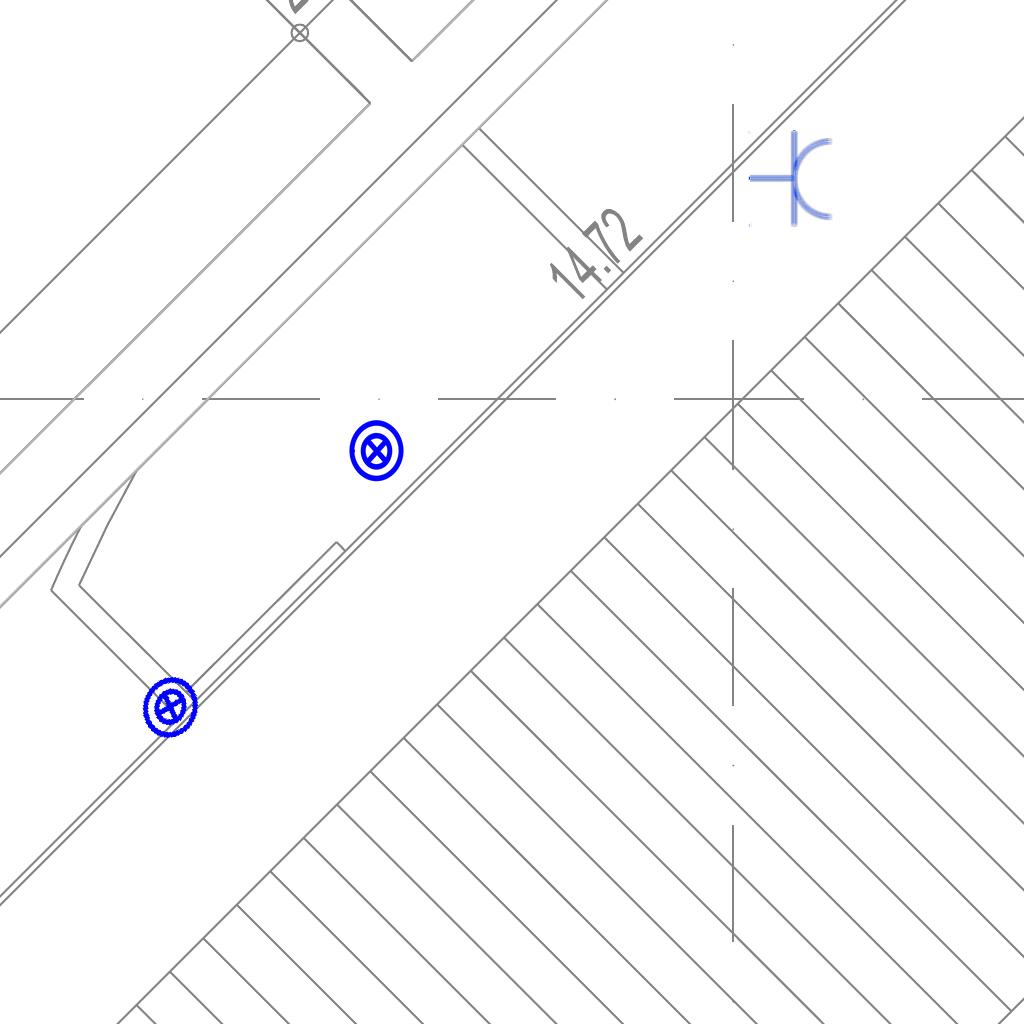Schukosteckdose_einfach: (748, 129, 835, 229)
Taster_beleuchtet: (128, 665, 212, 749), (344, 418, 410, 484)
